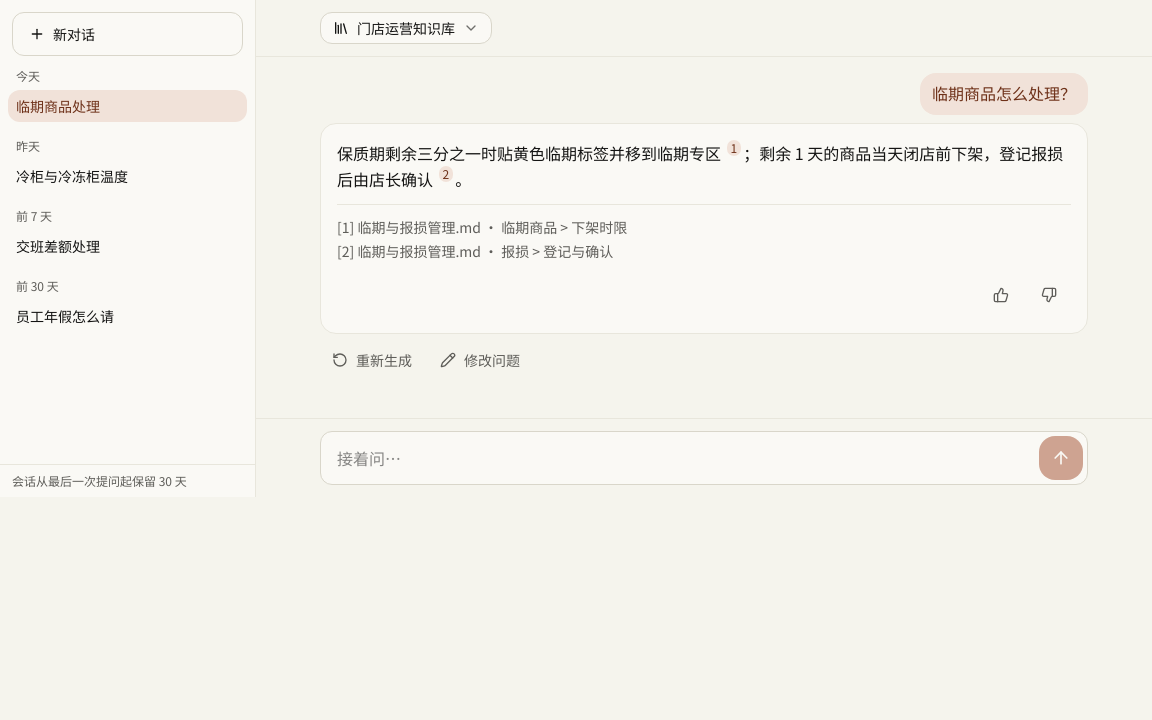
提问 › 服务端报错时给出中文提示
Expected: the element named "问答：临期商品怎么处理？" is shown, [320,73,1088,378]
Type "那报损呢？" into the field named "输入问题" at (684, 458), box [337,436,1031,480]
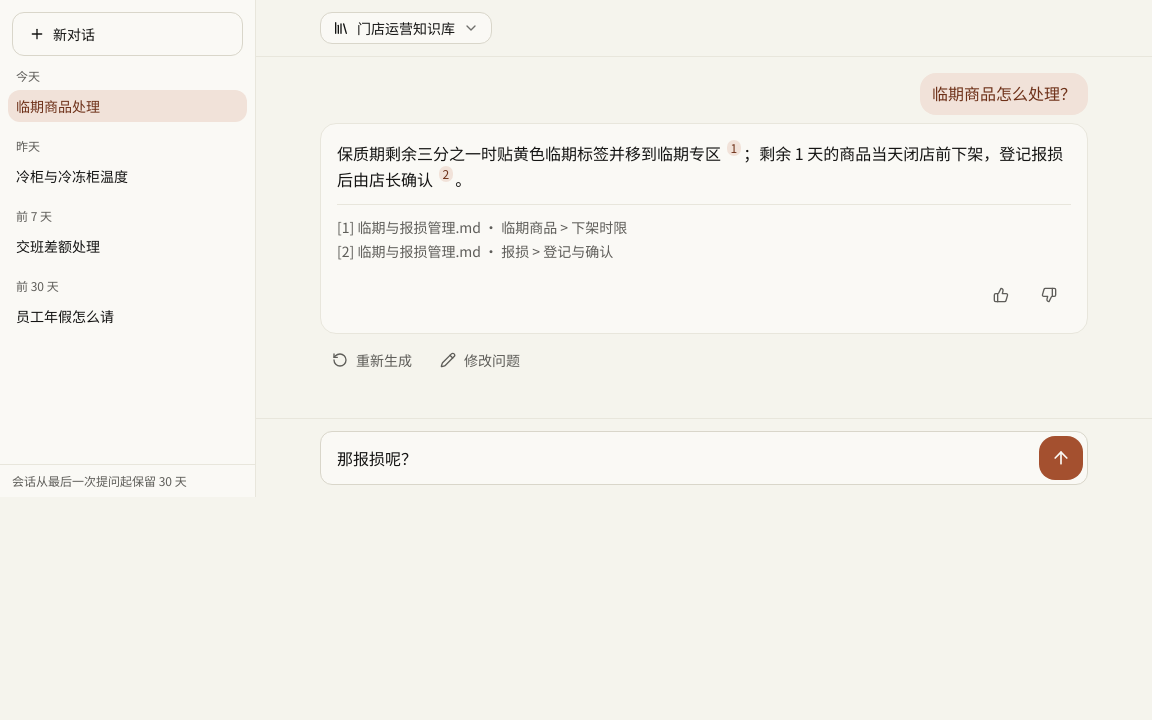
Click the button named "发送" at (1061, 458), box [1039,436,1083,480]
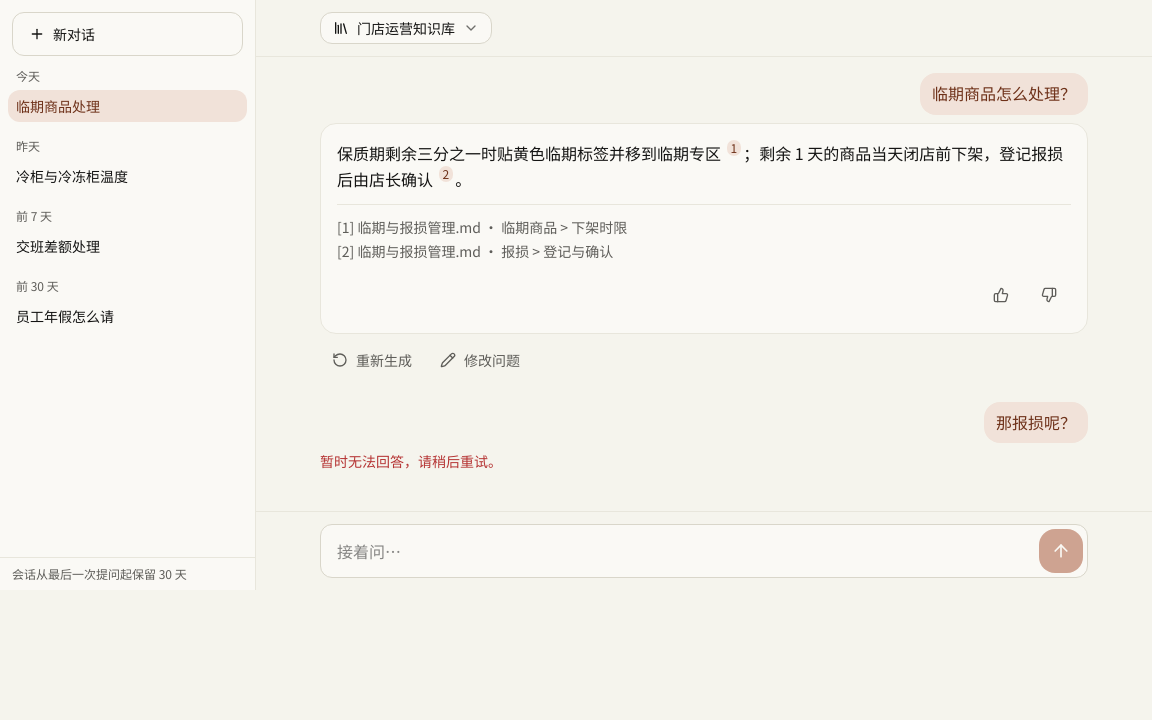
Result: the text "暂时无法回答，请稍后重试。" is shown at [320,451,502,471]
